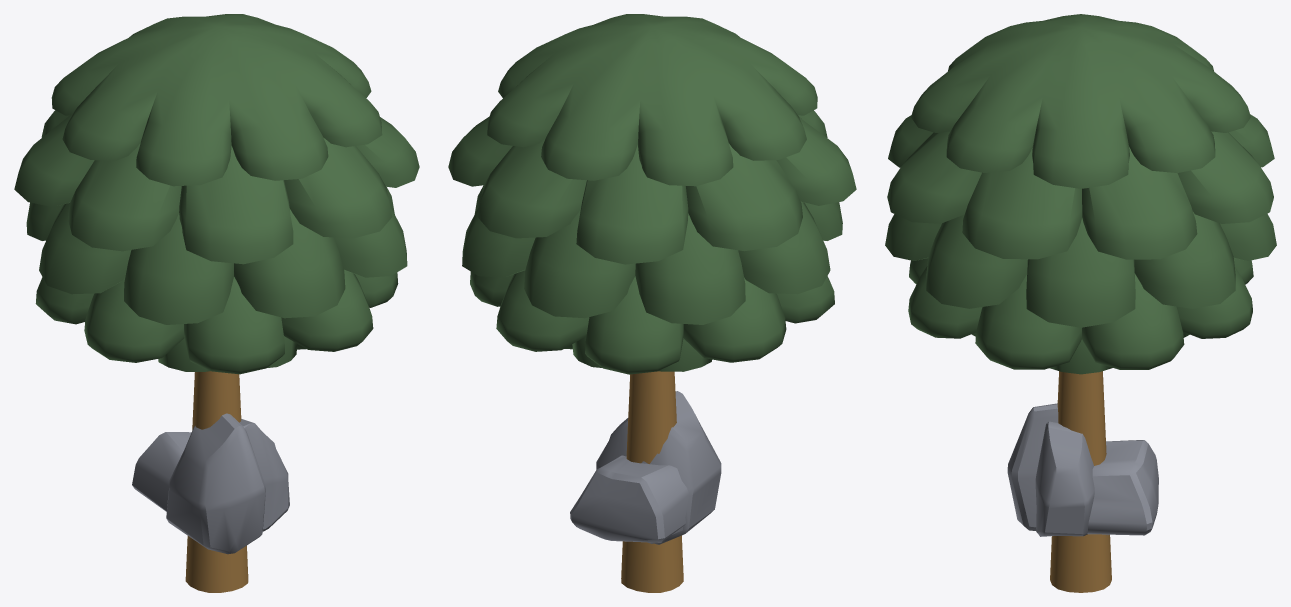
Rendered from tree1.glb.
The picture shows the model from 3 angles, left to right: view 1: azimuth 30°, elevation 25°; view 2: azimuth 150°, elevation 25°; view 3: azimuth 270°, elevation 25°; orthographic projection.
Visible parts, largest first — view 1: Tree, Rock_2, Rock_1; view 2: Tree, Rock_1, Rock_2; view 3: Tree, Rock_2, Rock_1.
Part boxes in pixels (x1=…): Tree: x1=14, y1=14, x2=419, y2=592; Rock_2: x1=166, y1=413, x2=289, y2=554; Rock_1: x1=132, y1=432, x2=191, y2=511; Tree: x1=448, y1=14, x2=856, y2=592; Rock_1: x1=570, y1=455, x2=689, y2=542; Rock_2: x1=596, y1=391, x2=721, y2=544; Tree: x1=885, y1=14, x2=1276, y2=592; Rock_2: x1=1007, y1=403, x2=1108, y2=536; Rock_1: x1=1087, y1=440, x2=1158, y2=535.
Bounding box in the file's own units: 5.53 × 8.63 × 5.55.
